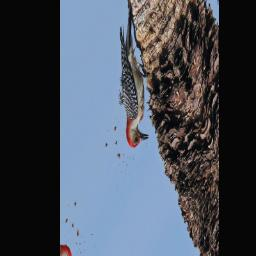Woodpecker: (96, 0, 169, 164)
